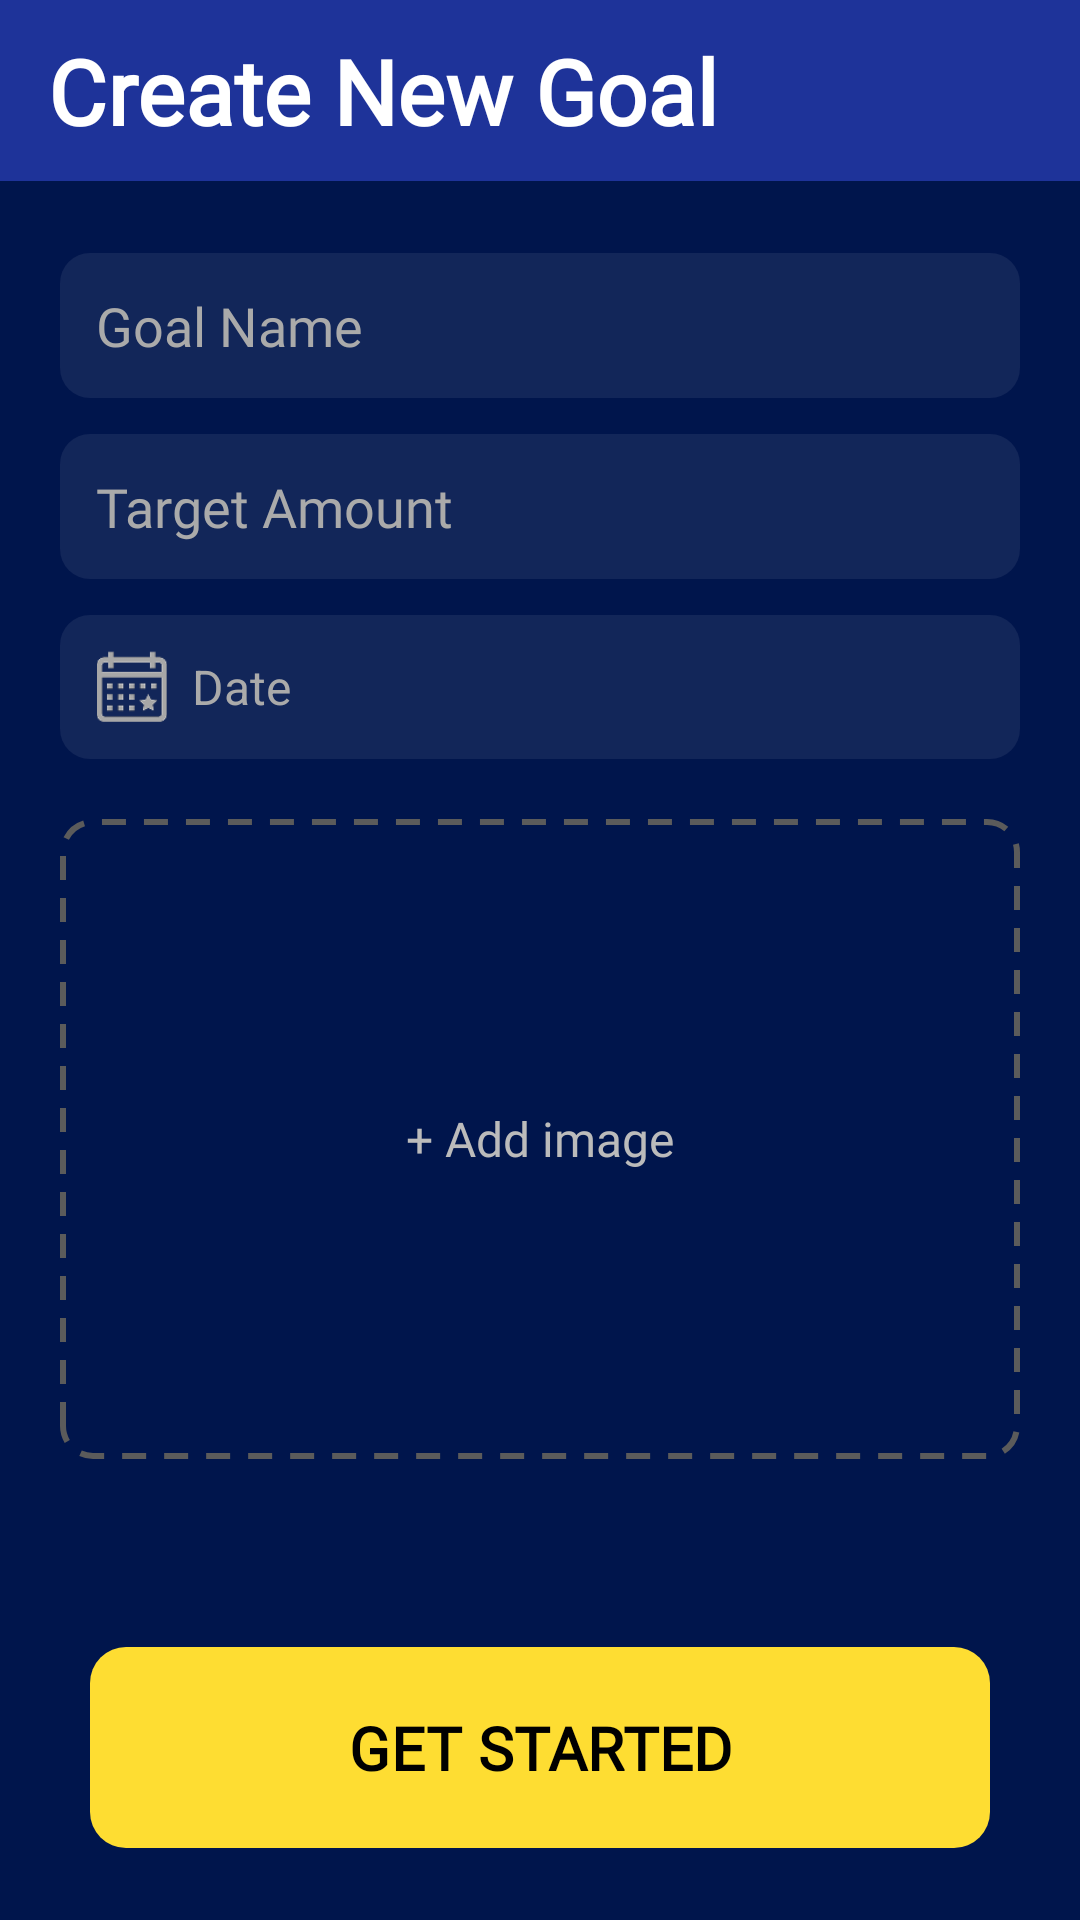

Named icons in this screenshot (1080 × 1920) and their centers, (x,y):
calendar: (132,686)
